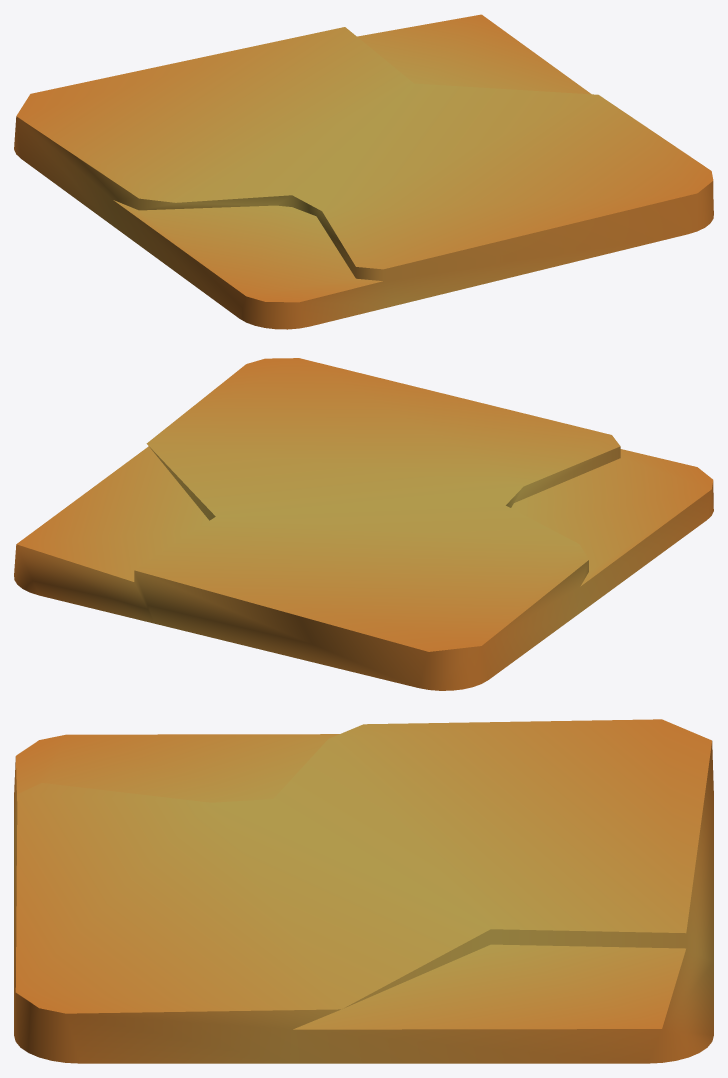
3 views of the same model, one above another, from view 1: azimuth 30°, elevation 25°; view 2: azimuth 150°, elevation 25°; view 3: azimuth 270°, elevation 25° (orthographic). The views are drawn at different scales.
Visible parts, largest first — view 1: LOD 3_332424658592034533_2d0e7e9e3a92c6c43b8ba9db1d431990; view 2: LOD 3_332424658592034533_2d0e7e9e3a92c6c43b8ba9db1d431990; view 3: LOD 3_332424658592034533_2d0e7e9e3a92c6c43b8ba9db1d431990.
Part boxes in pixels (bbox=[...]): LOD 3_332424658592034533_2d0e7e9e3a92c6c43b8ba9db1d431990: bbox=[14, 14, 713, 329]; LOD 3_332424658592034533_2d0e7e9e3a92c6c43b8ba9db1d431990: bbox=[14, 358, 713, 690]; LOD 3_332424658592034533_2d0e7e9e3a92c6c43b8ba9db1d431990: bbox=[14, 719, 713, 1063].
Bounding box in the file's own units: 5.67 × 0.44 × 5.67.
